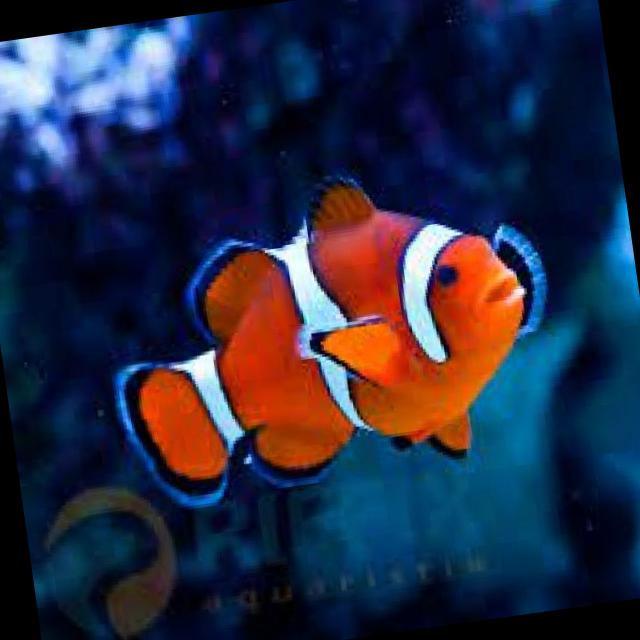ClownFish: (80, 138, 582, 537)
